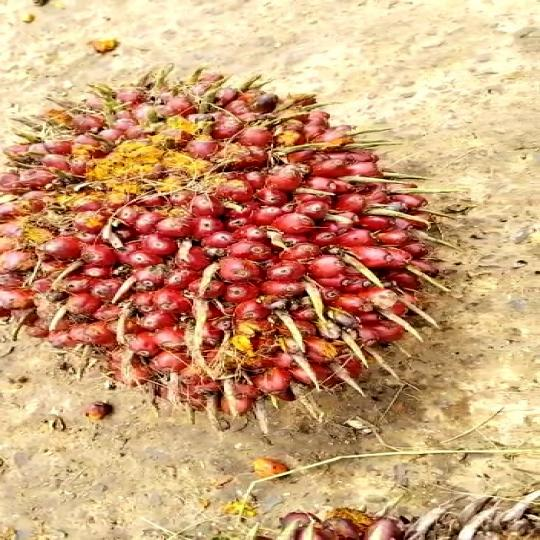kurang masak: (0, 70, 446, 449)
